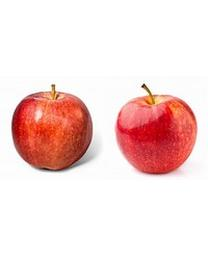apple: (114, 83, 196, 173), (11, 84, 92, 170)
